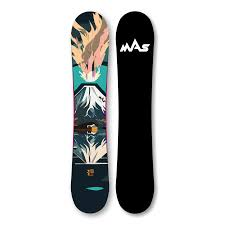snowboard: (114, 11, 155, 214), (70, 11, 111, 214)
